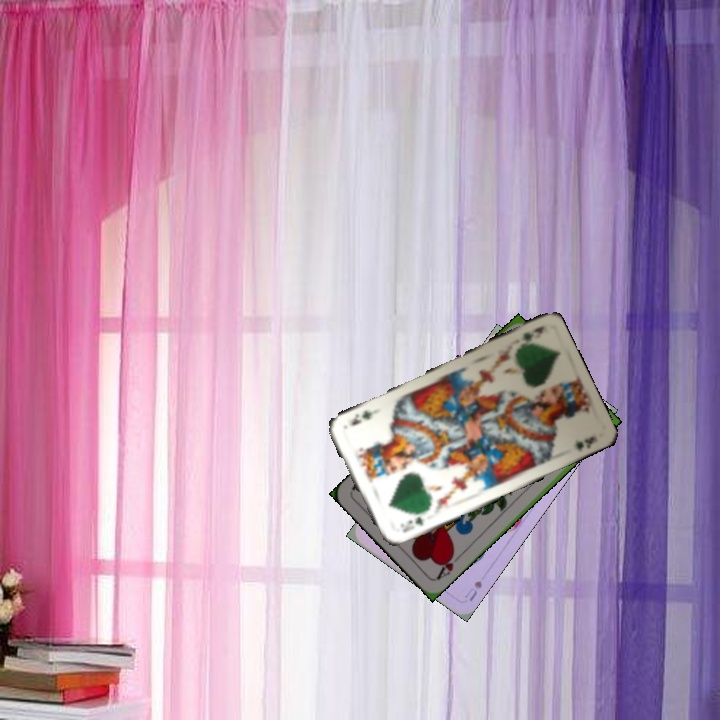GK: (516, 322, 547, 349), (395, 512, 426, 535)
HA: (432, 548, 457, 582)
SU: (460, 577, 485, 604)
